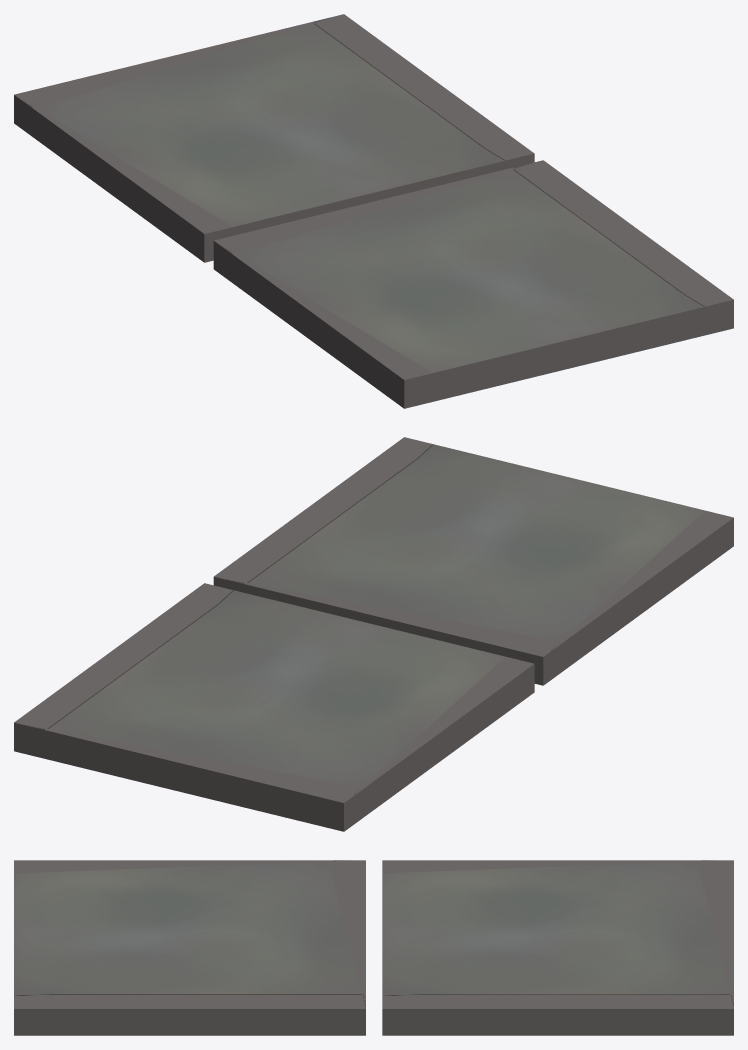
File: MazHoof (1).fbx
The picture shows the model from 3 angles, top to bottom: view 1: azimuth 30°, elevation 25°; view 2: azimuth 150°, elevation 25°; view 3: azimuth 270°, elevation 25°; orthographic projection. The views are drawn at different scales.
Visible parts, largest first — view 1: Teto_Lampada, Teto_Comum; view 2: Teto_Comum, Teto_Lampada; view 3: Teto_Comum, Teto_Lampada.
Part boxes in pixels (<box>): Teto_Lampada: <box>213,160,733,408</box>; Teto_Comum: <box>14,14,534,262</box>; Teto_Comum: <box>14,583,534,831</box>; Teto_Lampada: <box>213,437,733,685</box>; Teto_Comum: <box>382,860,733,1035</box>; Teto_Lampada: <box>14,860,365,1035</box>.
Bounding box in the file's own units: 360 × 48.05 × 737.
